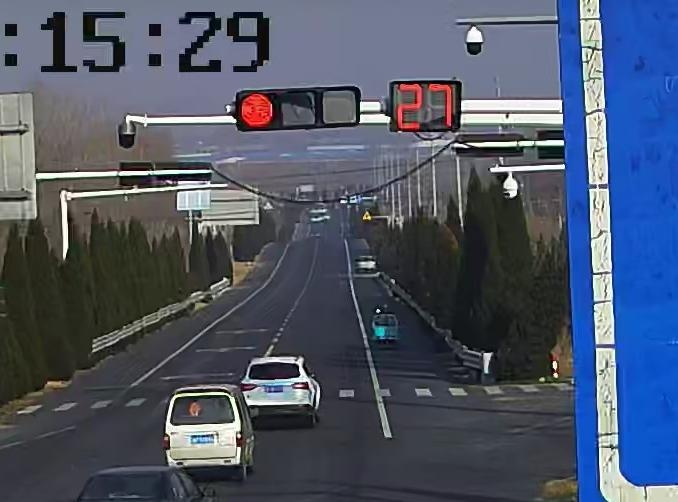red: (240, 91, 274, 126)
redtime: (390, 79, 461, 133)
